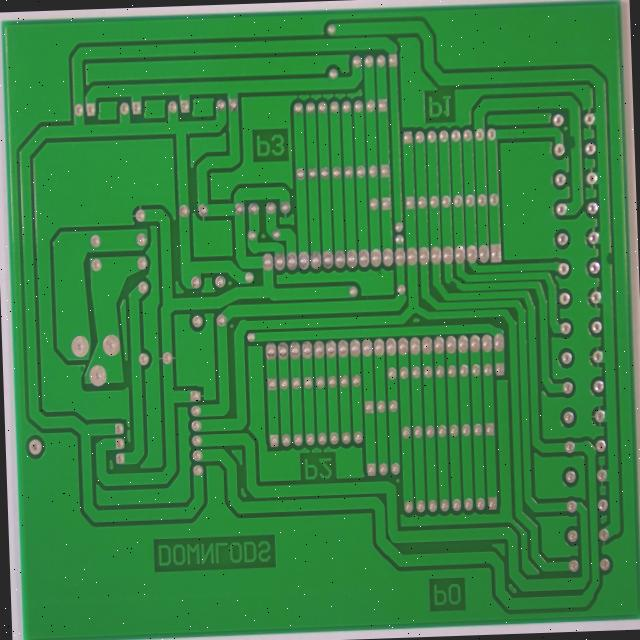mouse_bite: (425, 321, 445, 340), (558, 154, 575, 176), (600, 290, 614, 311)
